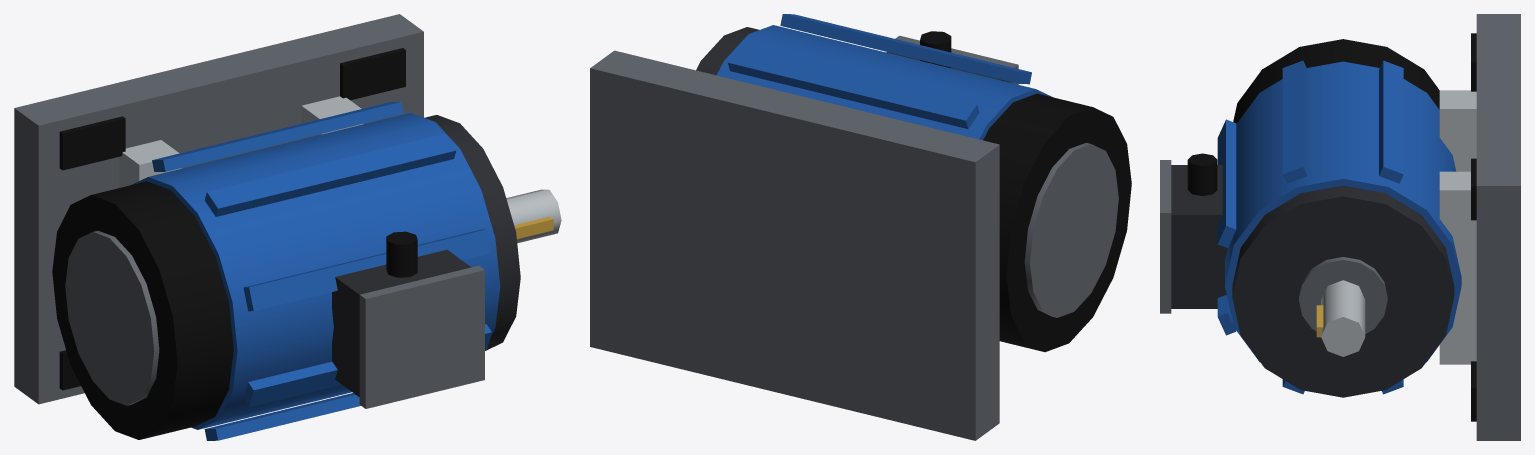
The model's file is item_m3.obj.
3 views of the same model, side by side, from view 1: azimuth 30°, elevation 25°; view 2: azimuth 150°, elevation 25°; view 3: azimuth 270°, elevation 25° (orthographic). The views are drawn at different scales.
Parts seen in each view (by area): view 1: item_m3; view 2: item_m3; view 3: item_m3.
Boxes of the visible parts, x1,y1,x2,y2 form: item_m3: (14, 14, 561, 440); item_m3: (590, 14, 1131, 440); item_m3: (1160, 14, 1520, 440).
Bounding box in the file's own units: 0.1255 × 0.076 × 0.0975.
1 material, 1 textured.
